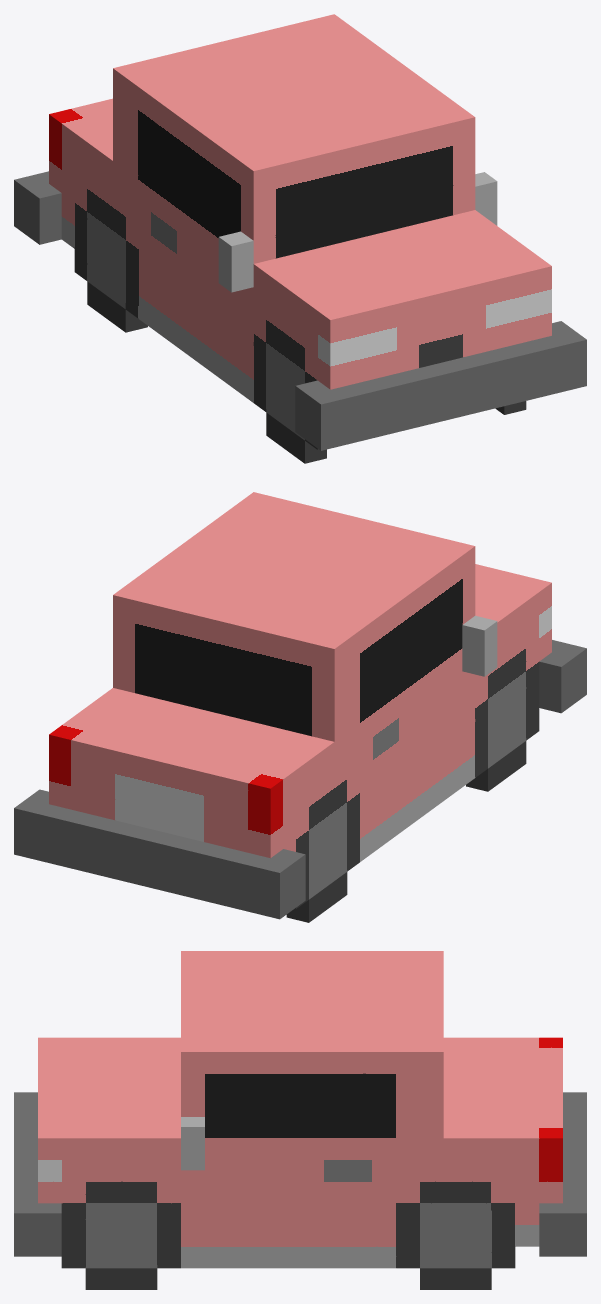
The model's file is veh_mini2.dae.
The picture shows the model from 3 angles, top to bottom: view 1: azimuth 30°, elevation 25°; view 2: azimuth 150°, elevation 25°; view 3: azimuth 270°, elevation 25°; orthographic projection. The views are drawn at different scales.
Visible parts, largest first — view 1: veh_mini2; view 2: veh_mini2; view 3: veh_mini2.
Part boxes in pixels (x1,y1,x2,y2): veh_mini2: [14, 14, 586, 463]; veh_mini2: [14, 492, 586, 922]; veh_mini2: [14, 951, 586, 1289].
Bounding box in the file's own units: 1.2 × 2.4 × 1.1.
1 material, 1 textured.
